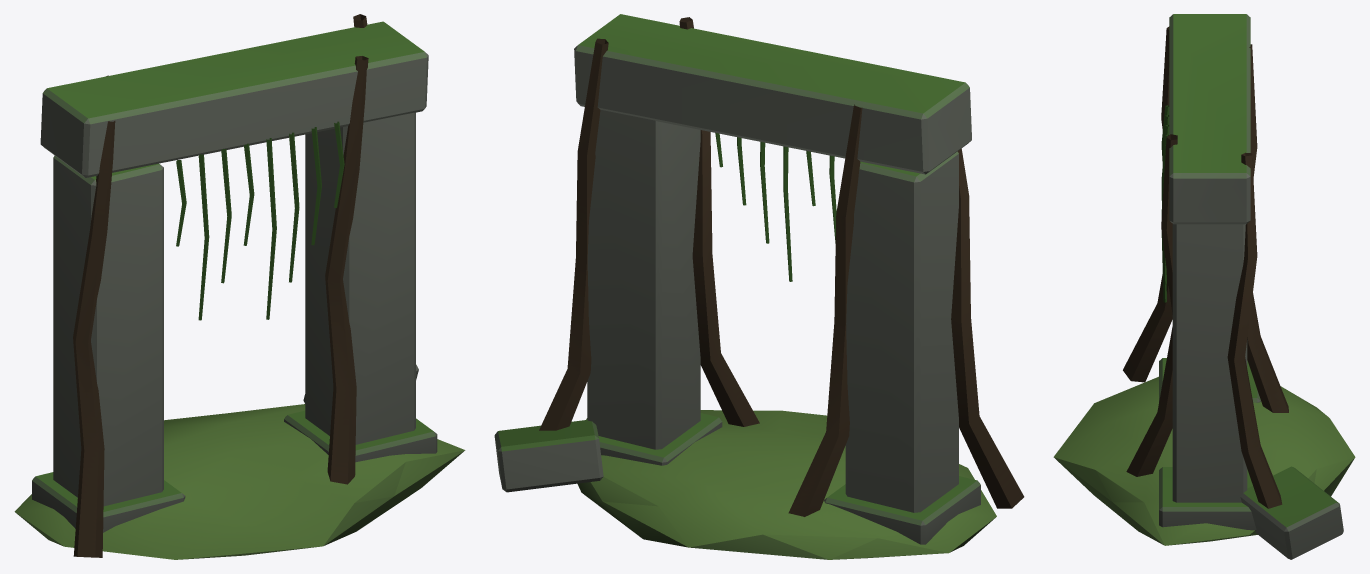
Rendered from landmark_jungle.glb.
3 renders of one model, left to right at view 1: azimuth 30°, elevation 25°; view 2: azimuth 150°, elevation 25°; view 3: azimuth 270°, elevation 25°, orthographic. The views are drawn at different scales.
Visible parts, largest first — view 1: landmark_jungle; view 2: landmark_jungle; view 3: landmark_jungle.
Boxes of the visible parts, <box> form: landmark_jungle: <box>14,14,465,559</box>; landmark_jungle: <box>494,14,1024,559</box>; landmark_jungle: <box>1053,14,1355,559</box>.
Bounding box in the file's own units: 6.46 × 6.28 × 4.45.
